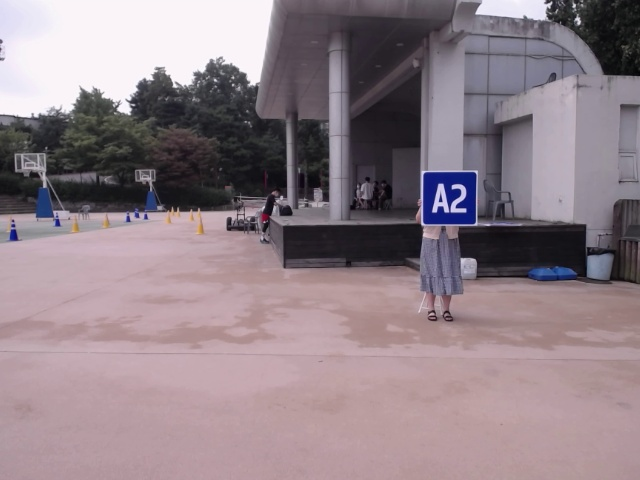delivery_a2: (422, 170, 477, 225)
